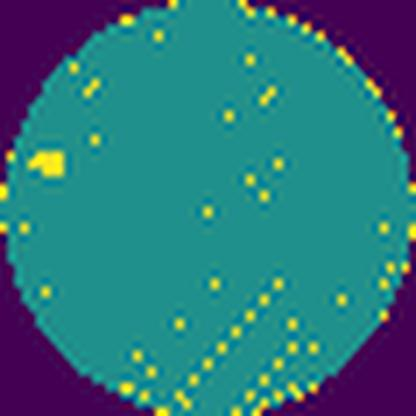Loc: (31, 150, 67, 176)
